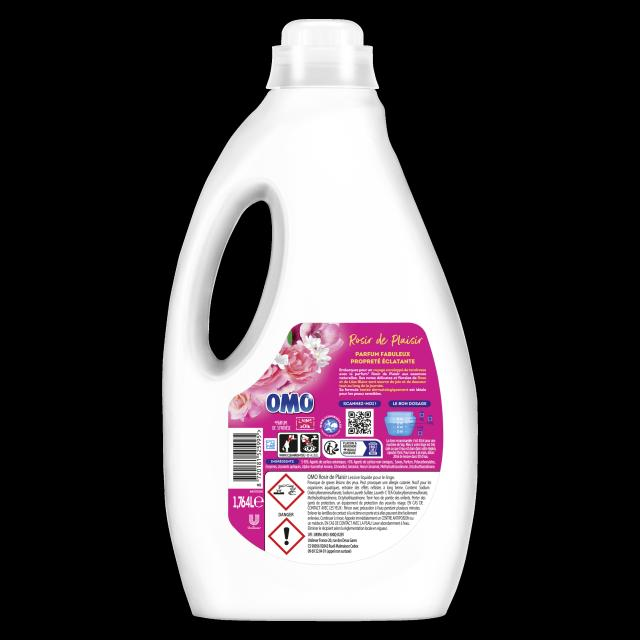GHS_Symbol_CORROSION: (268, 473, 305, 510)
GHS_Symbol_EXCLAMATION_MARK: (269, 517, 305, 554)
